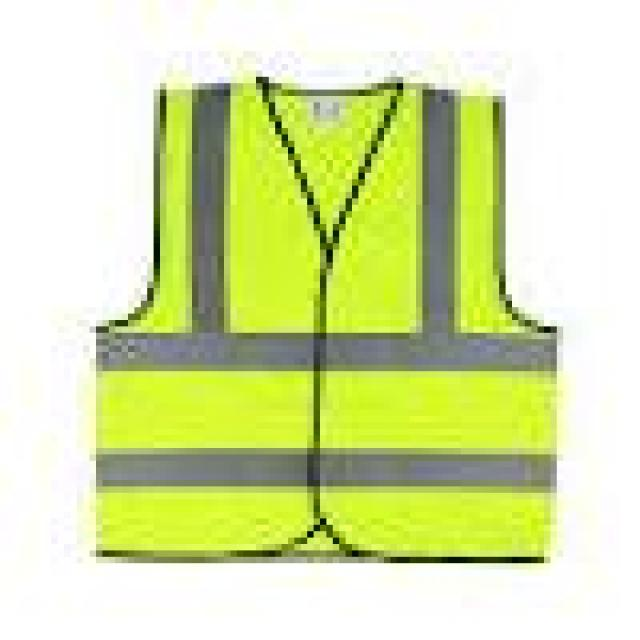Reflective-Jacket: (51, 19, 602, 602)
